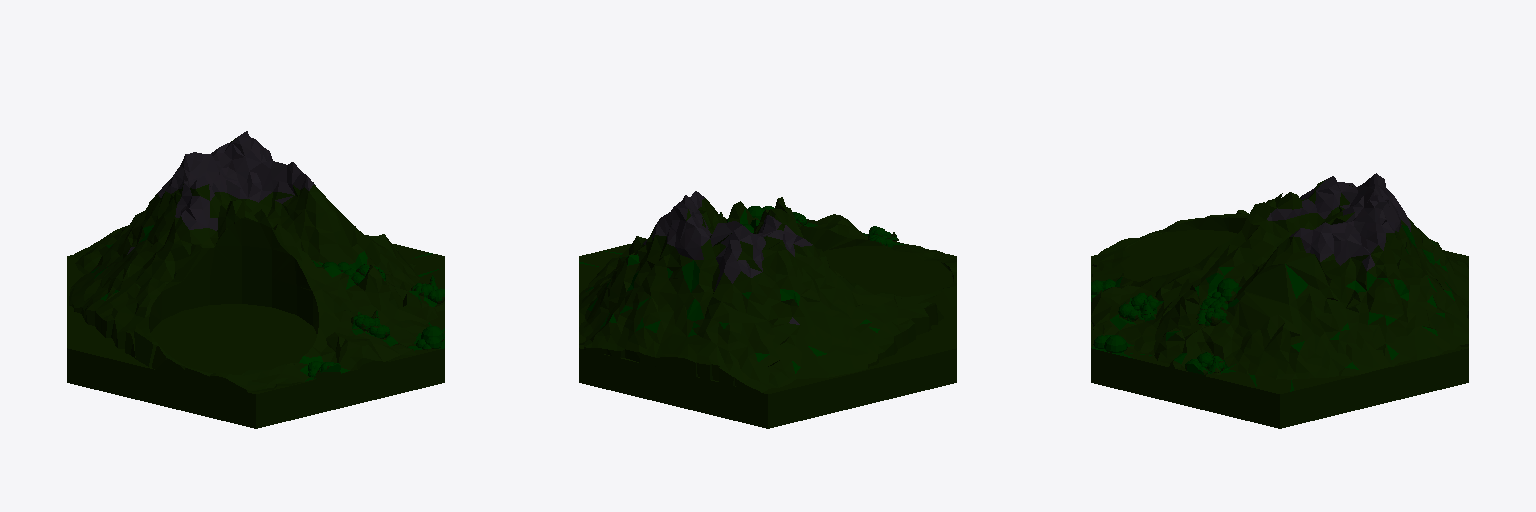
The model's file is wood.obj.
The picture shows the model from 3 angles: view 1: azimuth 30°, elevation 25°; view 2: azimuth 150°, elevation 25°; view 3: azimuth 270°, elevation 25°; orthographic projection.
Parts seen in each view (by area): view 1: wood_v3; view 2: wood_v3; view 3: wood_v3.
Boxes of the visible parts, x1,y1,x2,y2 form: wood_v3: [67, 131, 444, 428]; wood_v3: [579, 191, 956, 428]; wood_v3: [1091, 173, 1468, 428].
Bounding box in the file's own units: 73.17 × 29.92 × 63.37.